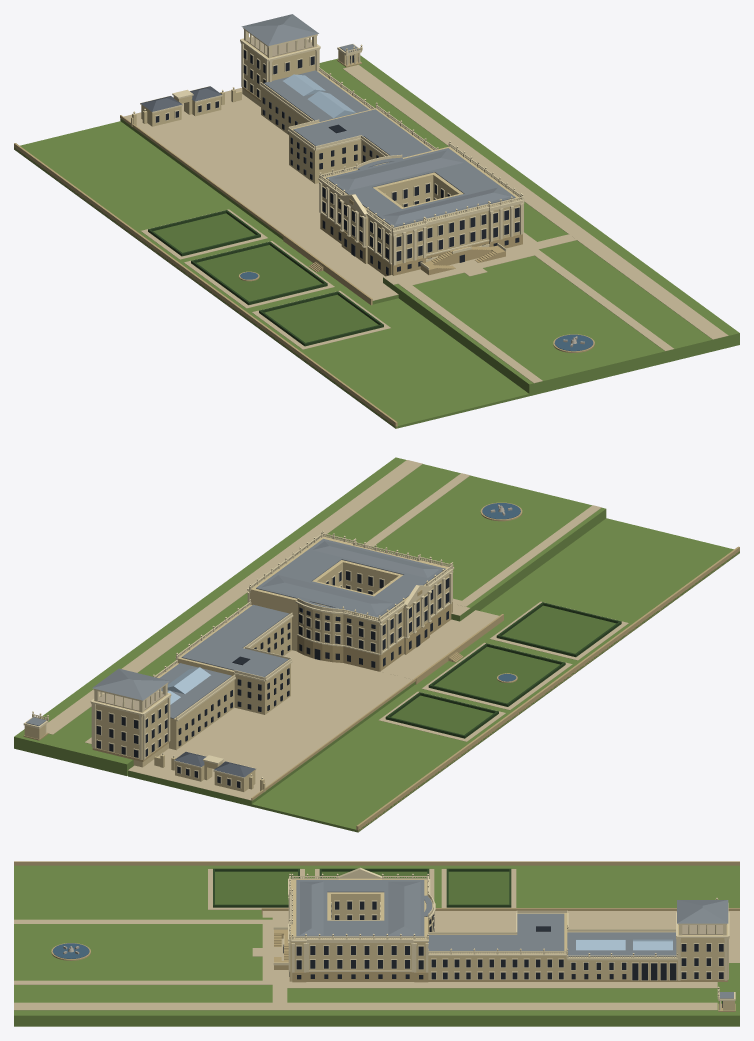
File: chatsworth-b80.glb
The picture shows the model from 3 angles, top to bottom: view 1: azimuth 30°, elevation 25°; view 2: azimuth 150°, elevation 25°; view 3: azimuth 270°, elevation 25°; orthographic projection. The views are drawn at different scales.
Size of the model in its own units: 15.2 by 3.32 by 29.2.
